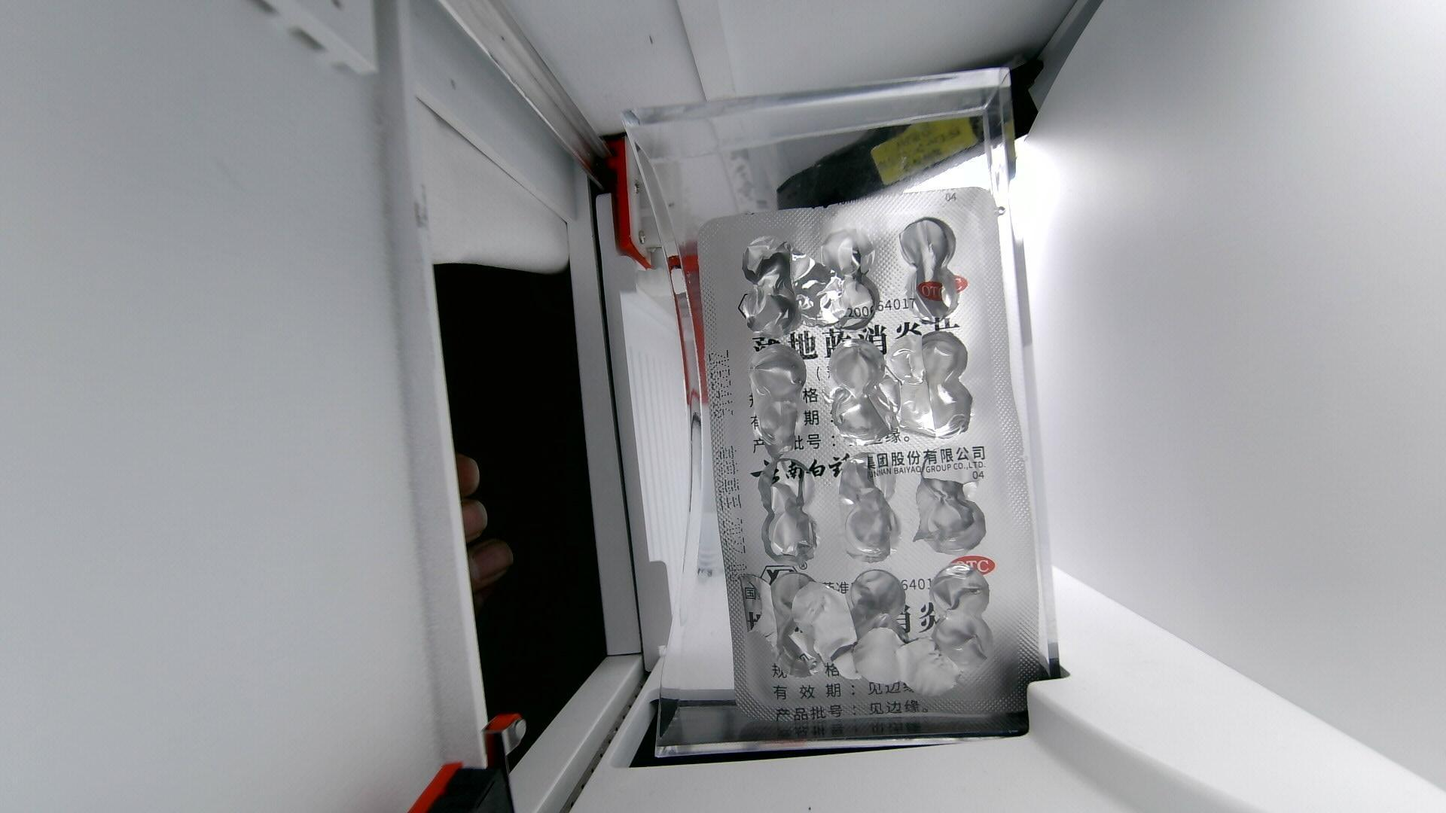No Pill Back: (914, 452, 986, 554), (828, 340, 897, 445), (900, 217, 968, 321), (770, 570, 834, 678), (930, 560, 992, 670), (838, 454, 900, 562), (749, 343, 807, 456), (739, 236, 803, 338), (850, 569, 905, 682), (819, 228, 880, 328), (758, 458, 816, 562), (921, 330, 972, 436)
